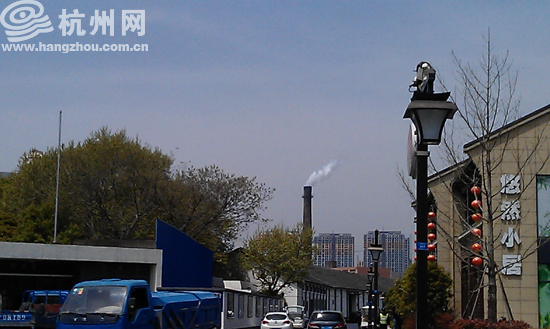dust: (298, 159, 349, 190)
